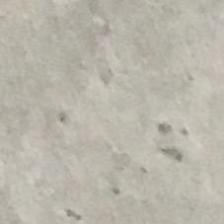Non_Crack: (34, 30, 202, 177)
